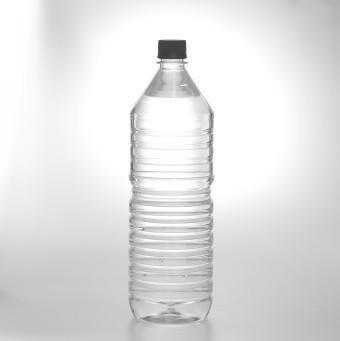bottle: (121, 32, 232, 328)
